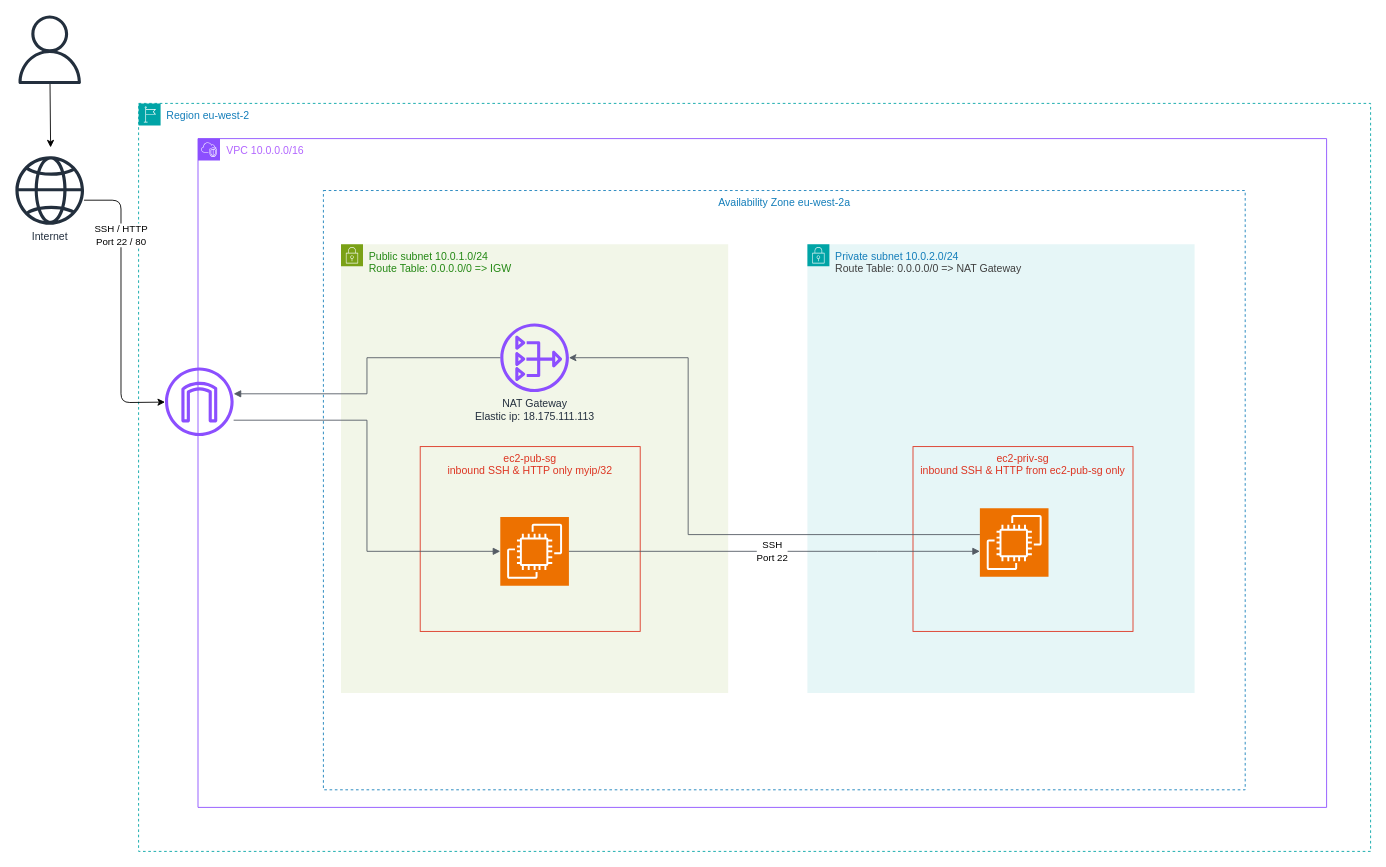
This 1386x867 diagram has some shape labels left out. Each missing label, with the centre of its shape:
"ec2-priv" belongs at pixel 1014 542.
"ec2-pub bastion/web" belongs at pixel 534 551.
"IGW" belongs at pixel 199 401.
"Me" belongs at pixel 49 49.
